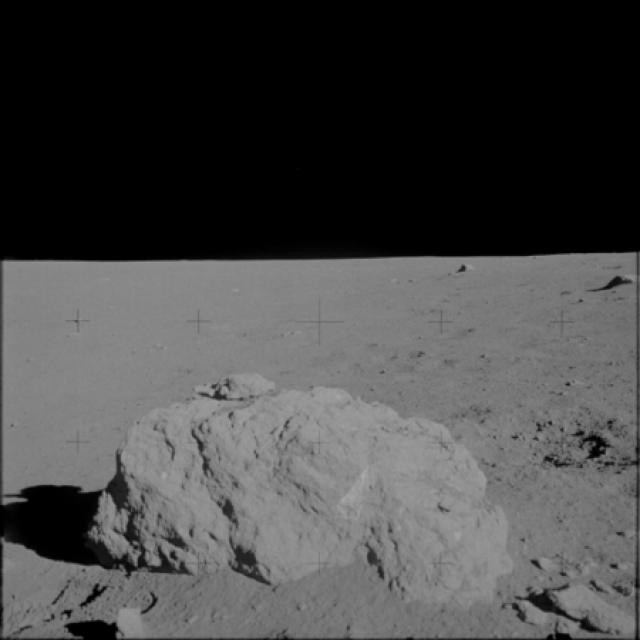crater: (464, 400, 638, 478)
rock: (81, 369, 514, 608), (513, 574, 638, 636), (107, 601, 172, 639), (586, 269, 639, 294), (450, 260, 486, 280)
